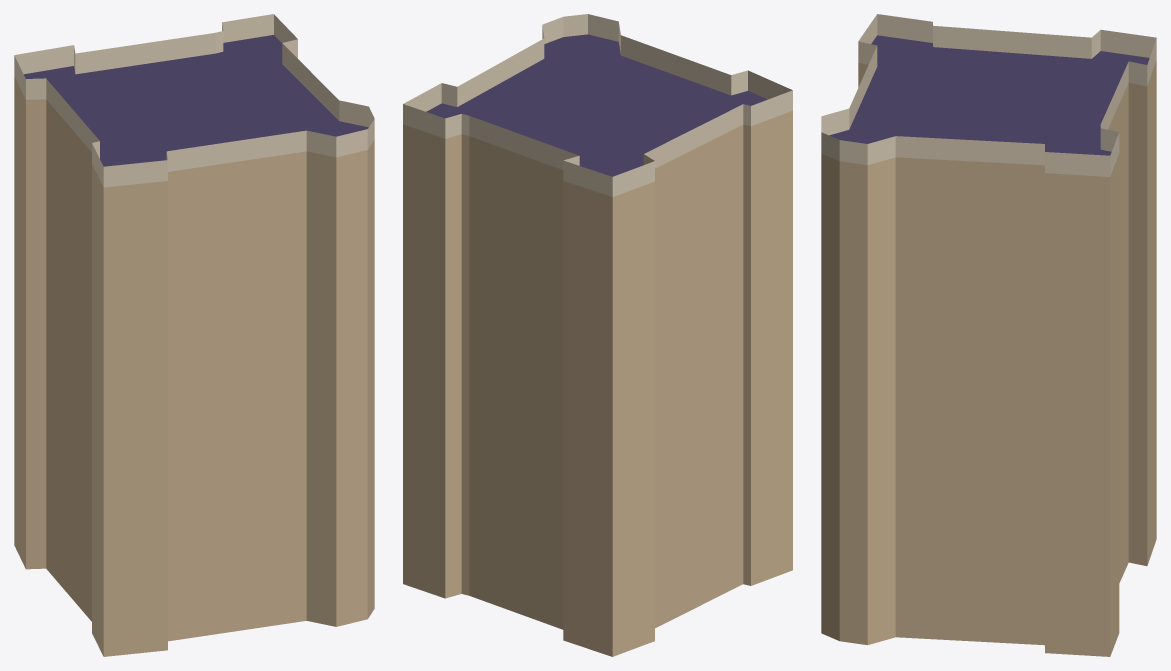
The model's file is b-025-day.glb.
3 views of the same model, side by side, from view 1: azimuth 30°, elevation 25°; view 2: azimuth 150°, elevation 25°; view 3: azimuth 270°, elevation 25° (orthographic). The views are drawn at different scales.
Visible parts, largest first — view 1: campus/b-025-day-0; view 2: campus/b-025-day-0; view 3: campus/b-025-day-0.
Boxes of the visible parts, bbox=[...] form: campus/b-025-day-0: bbox=[14, 14, 374, 656]; campus/b-025-day-0: bbox=[403, 14, 792, 656]; campus/b-025-day-0: bbox=[821, 14, 1156, 656].
Bounding box in the file's own units: 7.86 × 12.95 × 7.86.
